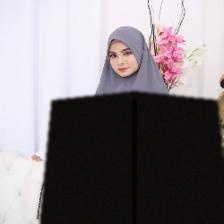Cadar_Niqab: (40, 19, 224, 224)
